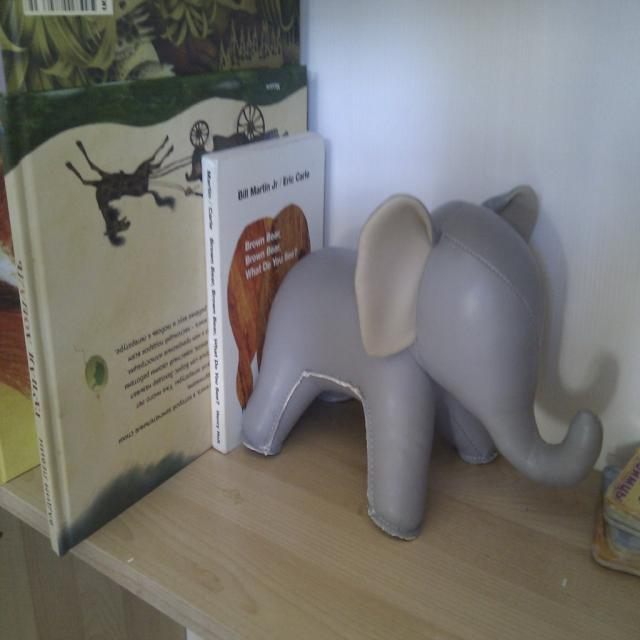elephant: (215, 143, 640, 537)
